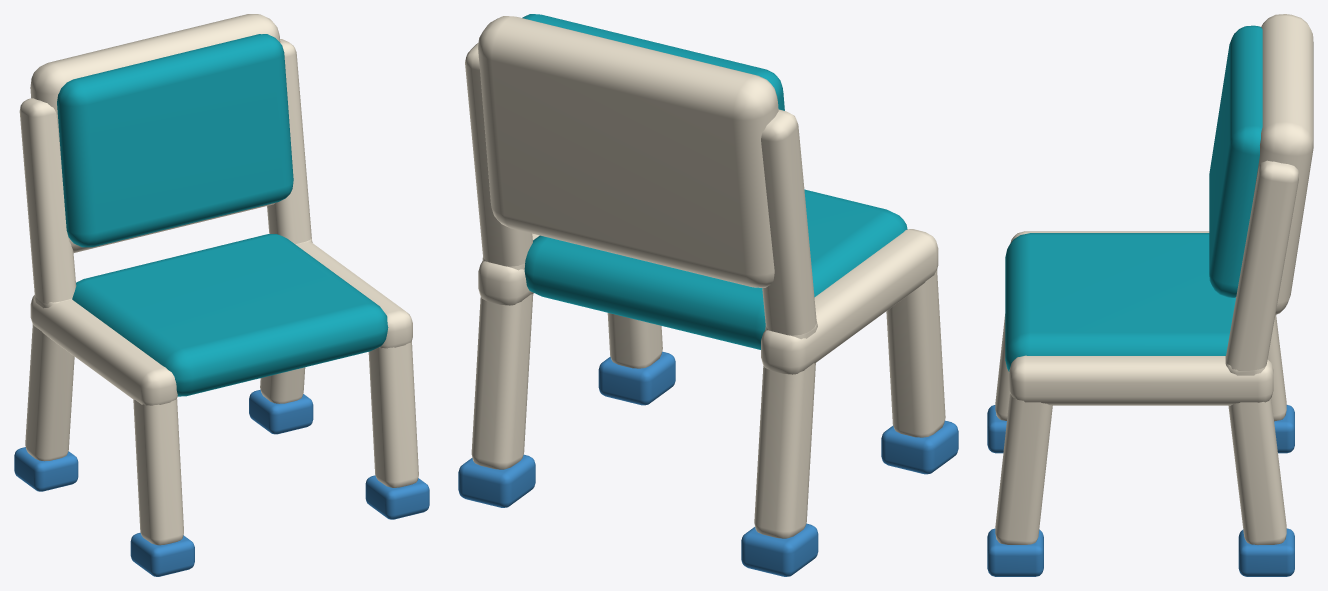
Rendered from waiting-chair.glb.
The picture shows the model from 3 angles, left to right: view 1: azimuth 30°, elevation 25°; view 2: azimuth 150°, elevation 25°; view 3: azimuth 270°, elevation 25°; orthographic projection. The views are drawn at different scales.
Visible parts, largest first — view 1: 02_Waiting_Chair__Visual; view 2: 02_Waiting_Chair__Visual; view 3: 02_Waiting_Chair__Visual.
Part boxes in pixels (x1,y1,x2,y2): 02_Waiting_Chair__Visual: [14, 14, 429, 576]; 02_Waiting_Chair__Visual: [458, 14, 958, 576]; 02_Waiting_Chair__Visual: [987, 14, 1313, 576].
Size of the model in its own units: 0.664 by 0.9238 by 0.6243.
1 material, 1 textured.
